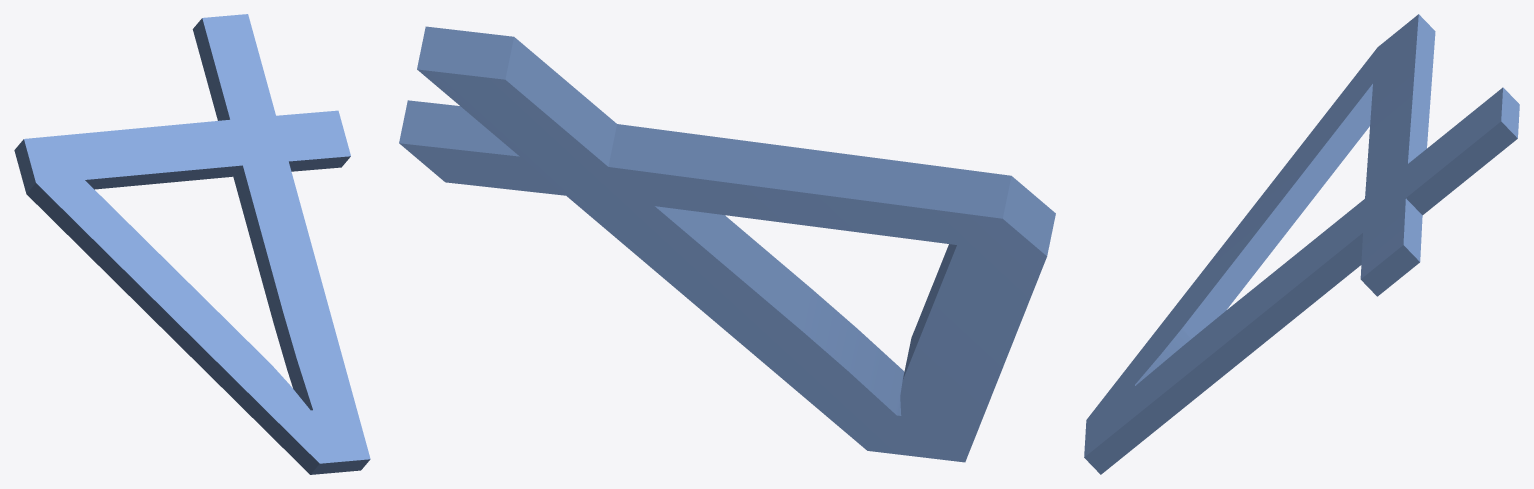
File: New_Number_4.gltf
3 views of the same model, side by side, from view 1: azimuth 30°, elevation 25°; view 2: azimuth 150°, elevation 25°; view 3: azimuth 270°, elevation 25° (orthographic). The views are drawn at different scales.
Visible parts, largest first — view 1: Part 409; view 2: Part 409; view 3: Part 409.
Boxes of the visible parts, x1,y1,x2,y2 form: Part 409: (14,14,370,474); Part 409: (399,26,1055,462); Part 409: (1084,14,1519,474).
Bounding box in the file's own units: 0.00415 × 0.00412 × 0.00414.
